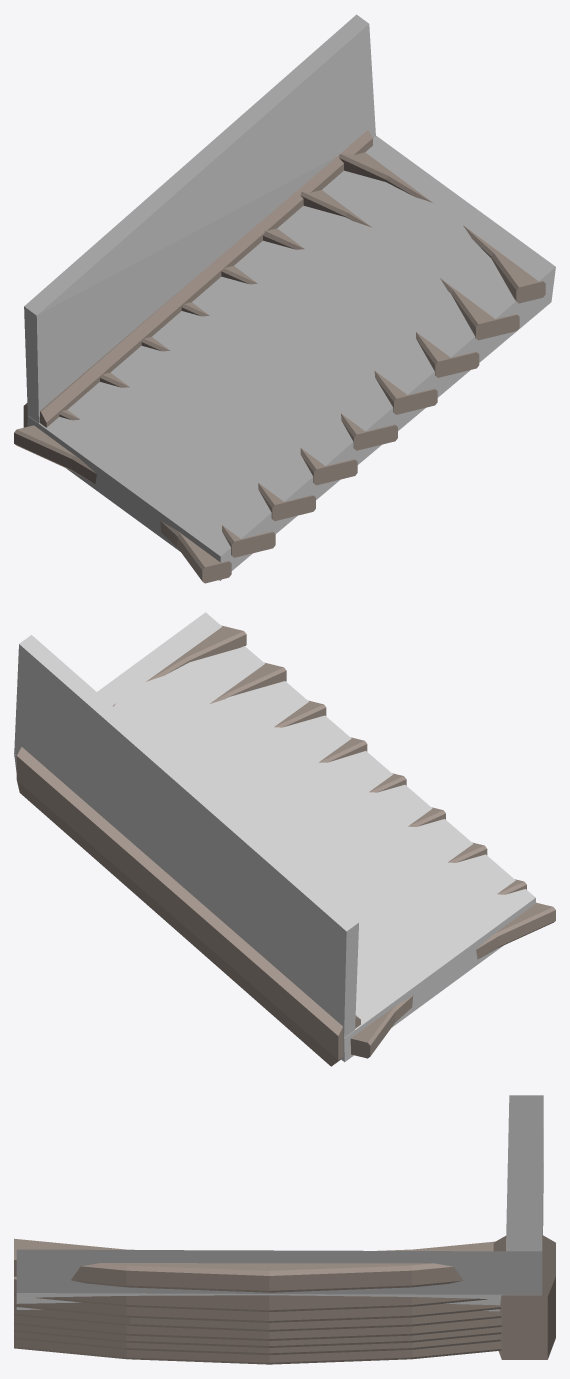
File: SM_Bld_Stairs_interior_01.fbx
3 renders of one model, top to bottom at view 1: azimuth 30°, elevation 25°; view 2: azimuth 150°, elevation 25°; view 3: azimuth 270°, elevation 25°, orthographic. The views are drawn at different scales.
Parts seen in each view (by area): view 1: SM_Bld_Stairs_interior_01_ConvexHulls, SM_Bld_Stairs_interior_01; view 2: SM_Bld_Stairs_interior_01_ConvexHulls, SM_Bld_Stairs_interior_01; view 3: SM_Bld_Stairs_interior_01, SM_Bld_Stairs_interior_01_ConvexHulls.
Boxes of the visible parts, left/top/right/bottom form: SM_Bld_Stairs_interior_01_ConvexHulls: left=24, top=14, right=555, bottom=580; SM_Bld_Stairs_interior_01: left=14, top=130, right=545, bottom=583; SM_Bld_Stairs_interior_01_ConvexHulls: left=14, top=612, right=535, bottom=1062; SM_Bld_Stairs_interior_01: left=16, top=625, right=555, bottom=1066; SM_Bld_Stairs_interior_01: left=14, top=1235, right=555, bottom=1364; SM_Bld_Stairs_interior_01_ConvexHulls: left=16, top=1095, right=543, bottom=1311.
Size of the model in its own units: 282 by 265 by 257.
Materials: 2 (1 with a texture image).
